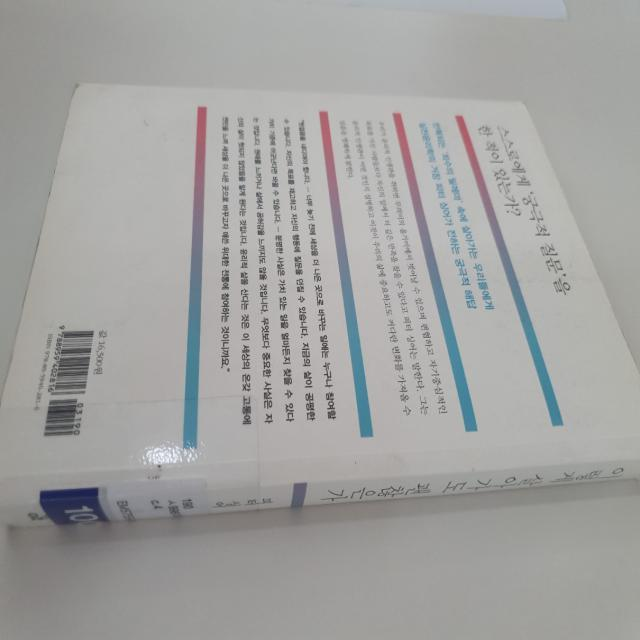Wornout: (31, 166, 58, 264), (58, 79, 85, 151), (3, 311, 23, 401), (615, 321, 639, 377)
